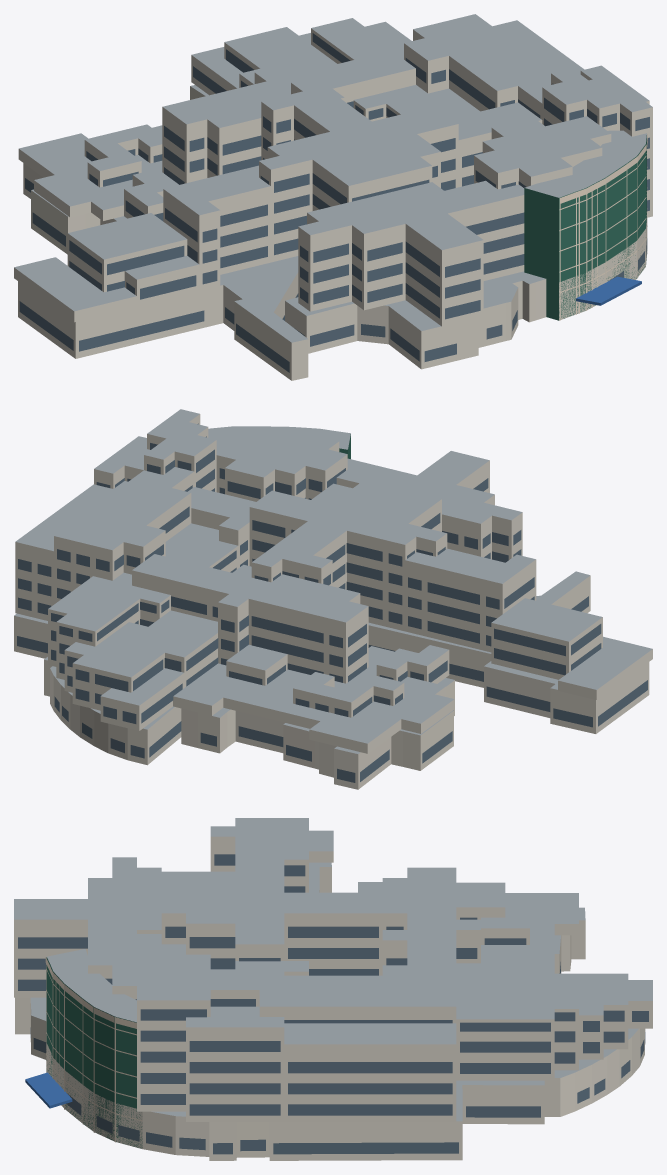
Rendered from clt-carolinas-medical-center.glb.
3 renders of one model, top to bottom at view 1: azimuth 30°, elevation 25°; view 2: azimuth 150°, elevation 25°; view 3: azimuth 270°, elevation 25°, orthographic. The views are drawn at different scales.
Parts seen in each view (by area): view 1: Atrium Health Carolinas Medical Center; view 2: Atrium Health Carolinas Medical Center; view 3: Atrium Health Carolinas Medical Center.
Boxes of the visible parts, box(x1,y1,x2,y2) form: Atrium Health Carolinas Medical Center: box(14, 14, 652, 380); Atrium Health Carolinas Medical Center: box(14, 409, 652, 789); Atrium Health Carolinas Medical Center: box(14, 818, 652, 1160).
Size of the model in its own units: 216 by 54 by 208.
